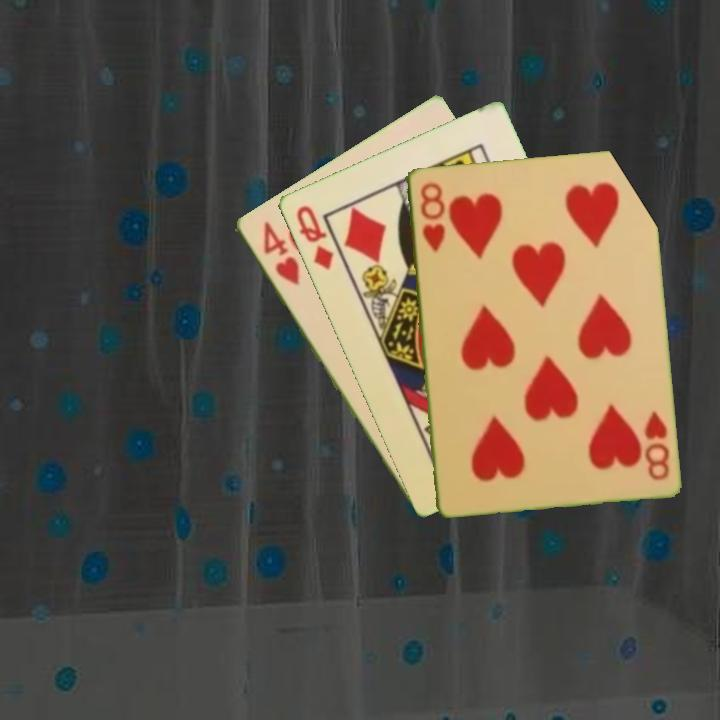4h: (259, 217, 302, 288)
8h: (416, 178, 448, 254), (640, 407, 672, 483)
Qd: (292, 201, 337, 273)
